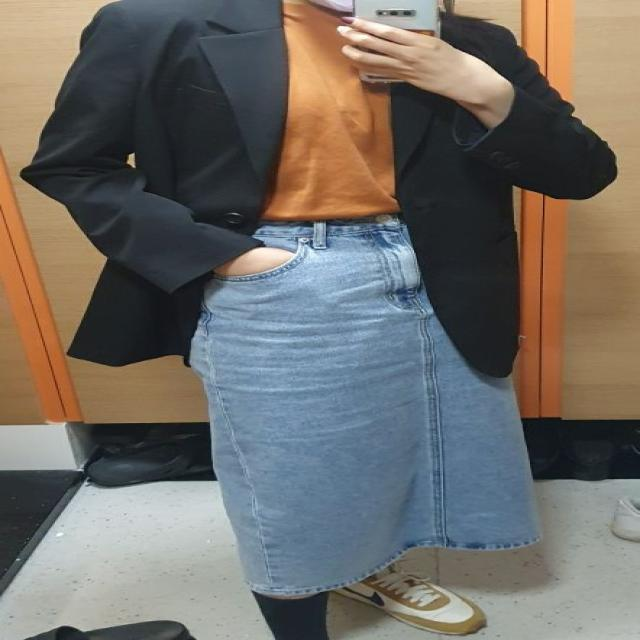blazer: (12, 0, 619, 390)
skirt: (185, 202, 550, 594)
